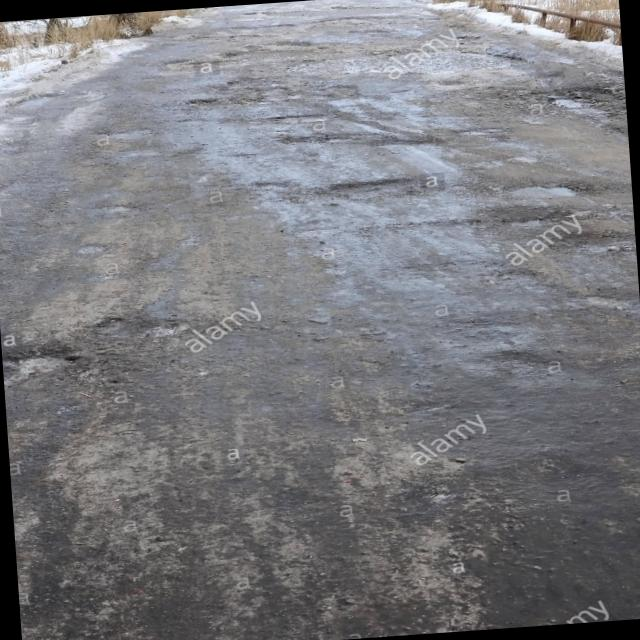Potholes: (172, 74, 362, 141), (532, 62, 628, 143), (217, 16, 333, 80), (1, 332, 109, 397), (306, 170, 443, 218), (272, 124, 444, 160), (488, 168, 574, 209)
